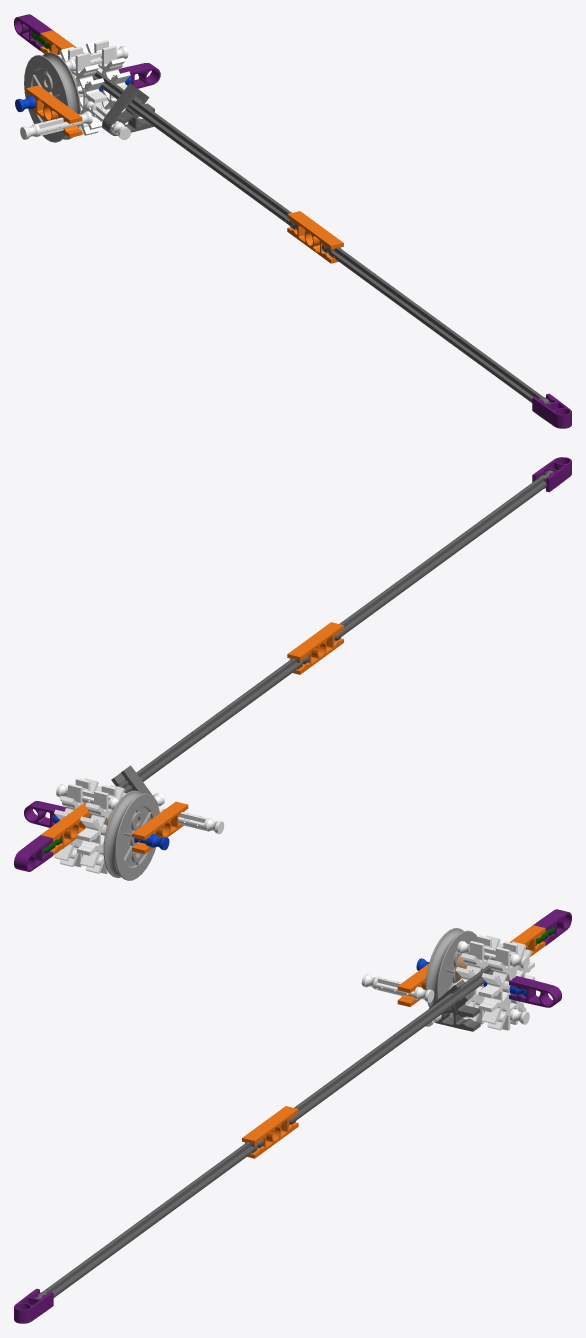
The picture shows the model from 3 angles, top to bottom: view 1: azimuth 30°, elevation 25°; view 2: azimuth 150°, elevation 25°; view 3: azimuth 330°, elevation 25°; orthographic projection.
Parts seen in each view (by area): view 1: Untitled.1629, Untitled.1627, Untitled.1616, Untitled.1621, Untitled.1623, Untitled.1624, Untitled.1615, Untitled.1613, Untitled.1628, Untitled.1614, transform1.011, Untitled.1625; view 2: Untitled.1616, Untitled.1629, Untitled.1627, Untitled.1621, Untitled.1613, Untitled.1623, Untitled.1615, Untitled.1622, transform1.011, Untitled.1628, Untitled.1625, Untitled.1614; view 3: Untitled.1629, Untitled.1627, Untitled.1613, Untitled.1616, Untitled.1621, Untitled.1623, Untitled.1624, Untitled.1625, Untitled.1628, Untitled.1614, transform1.011, Untitled.1615 (+2 smaller).
Part boxes in pixels (x1,y1,x2,y2): Untitled.1629: [321, 244, 551, 403]; Untitled.1627: [92, 70, 297, 230]; Untitled.1616: [24, 52, 80, 142]; Untitled.1621: [58, 46, 107, 135]; Untitled.1623: [287, 211, 343, 263]; Untitled.1624: [102, 83, 154, 135]; Untitled.1615: [26, 85, 82, 137]; Untitled.1613: [83, 40, 130, 128]; Untitled.1628: [532, 393, 571, 428]; Untitled.1614: [20, 111, 92, 139]; transform1.011: [14, 14, 52, 50]; Untitled.1625: [118, 63, 160, 88]; Untitled.1616: [103, 790, 159, 880]; Untitled.1629: [334, 470, 553, 642]; Untitled.1627: [87, 655, 309, 818]; Untitled.1621: [77, 785, 125, 873]; Untitled.1613: [54, 778, 101, 867]; Untitled.1623: [287, 622, 343, 674]; Untitled.1615: [132, 801, 188, 854]; Untitled.1622: [40, 803, 91, 855]; transform1.011: [14, 835, 52, 871]; Untitled.1628: [532, 457, 571, 492]; Untitled.1625: [24, 801, 65, 827]; Untitled.1614: [158, 806, 224, 834]; Untitled.1629: [34, 1139, 264, 1298]; Untitled.1627: [288, 965, 493, 1125]; Untitled.1613: [478, 941, 534, 1030]; Untitled.1616: [425, 928, 477, 1017]; Untitled.1621: [452, 935, 503, 1024]; Untitled.1623: [242, 1106, 298, 1158]; Untitled.1624: [429, 979, 480, 1031]; Untitled.1625: [509, 976, 561, 1007]; Untitled.1628: [14, 1288, 53, 1323]; Untitled.1614: [361, 974, 434, 1002]; transform1.011: [533, 909, 571, 945]; Untitled.1615: [397, 963, 428, 1006].
Size of the model in its own units: 0.796 by 0.3772 by 4.61.
